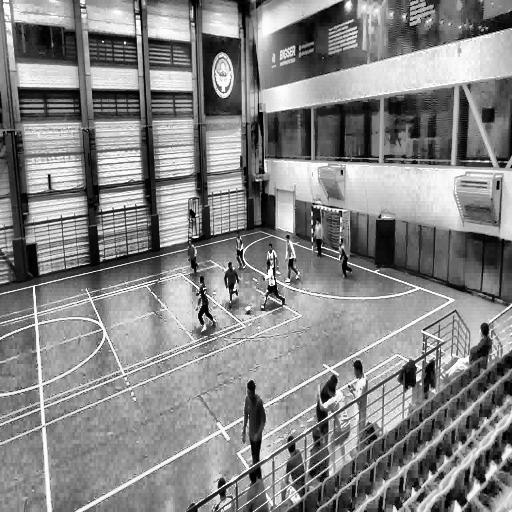ball: (246, 304, 252, 318)
player: (316, 374, 352, 464), (242, 379, 265, 472), (261, 247, 284, 309), (196, 274, 216, 330), (224, 261, 239, 308), (284, 234, 298, 284), (266, 243, 280, 284), (338, 238, 351, 280), (234, 230, 247, 270), (187, 238, 199, 276), (312, 218, 323, 258)
